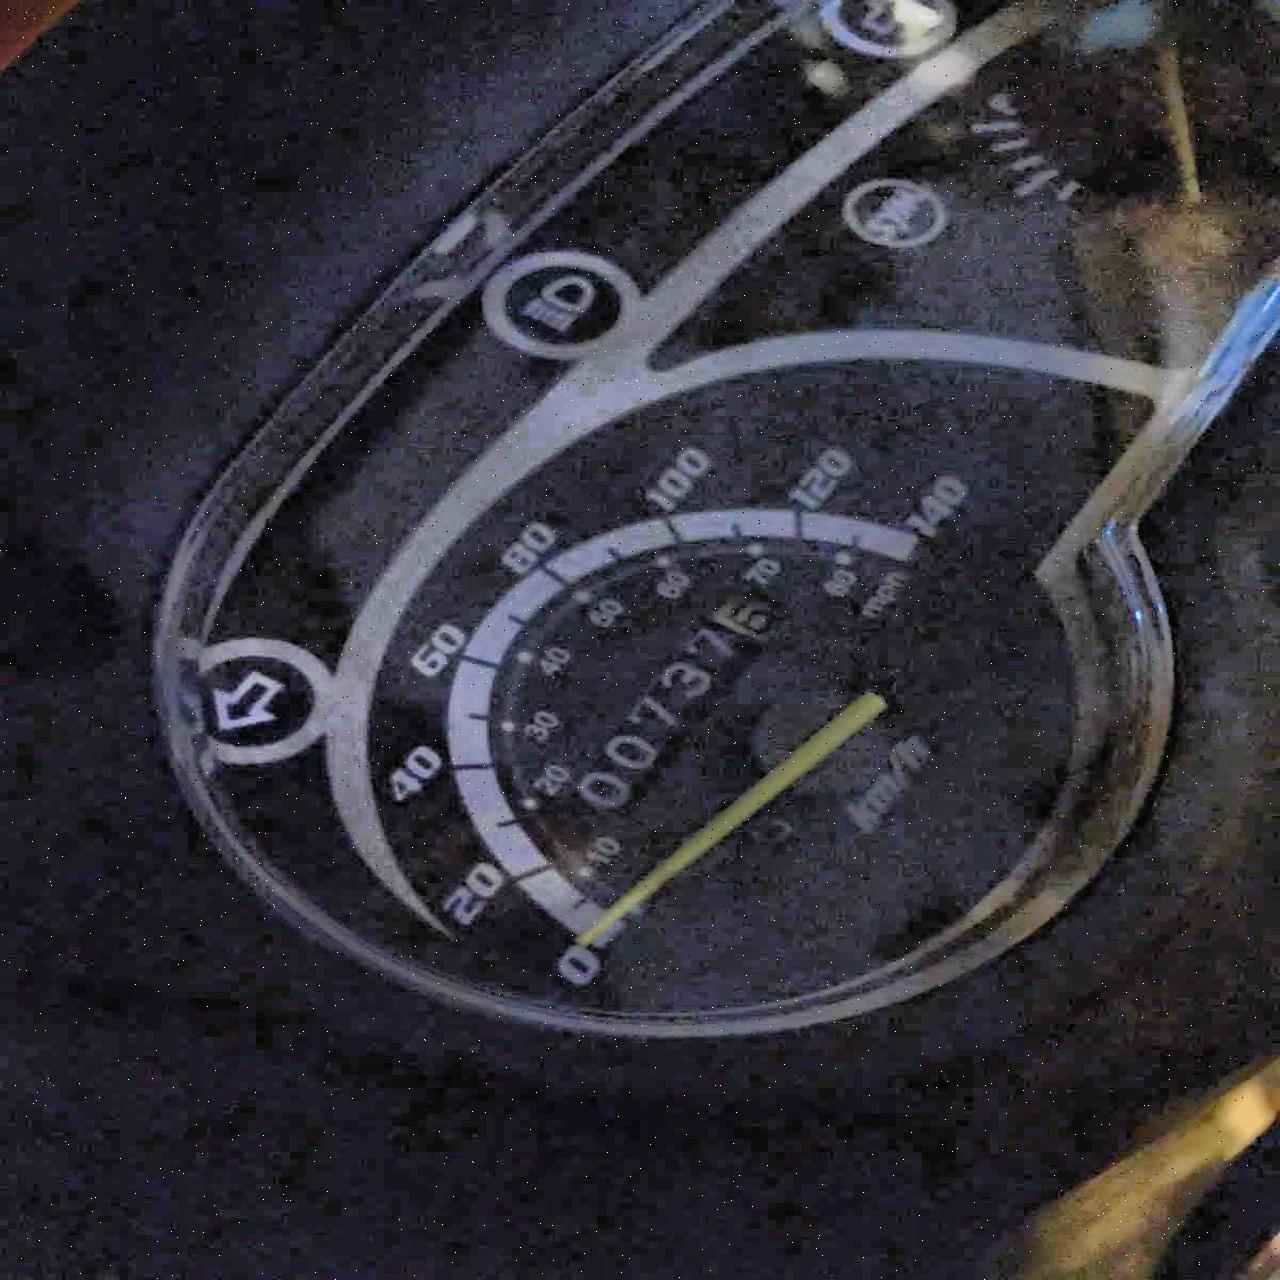0: (578, 772, 628, 810), (605, 736, 661, 769), (547, 763, 572, 783), (549, 644, 572, 662), (598, 599, 624, 613)
3: (655, 661, 715, 696)
5: (587, 610, 614, 626)
6: (720, 602, 775, 632)
7: (624, 697, 679, 728), (682, 628, 736, 659)
odometer: (547, 593, 790, 819)
